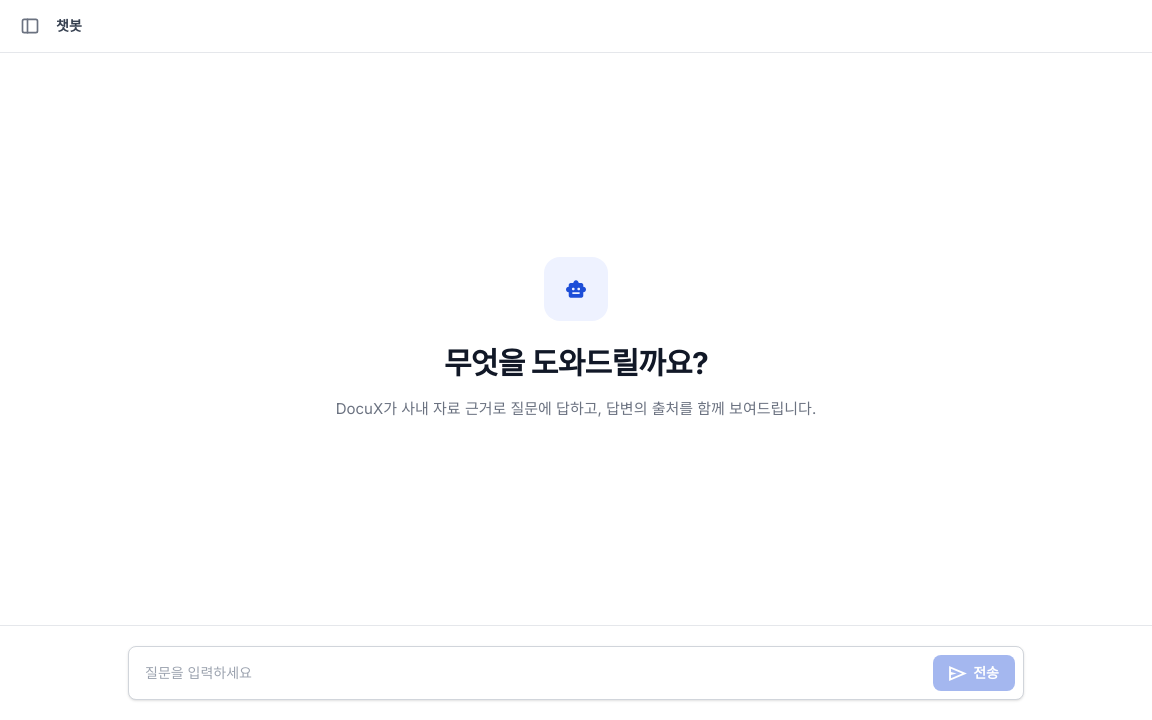
Scenario: ChatPage › 출처 인용 목록을 표시하지 않는다(사용자 요청)
Type "요약해줘" into the field labelled "질문".
click(535, 673); type("요약해줘")  # box [145,663,925,683]
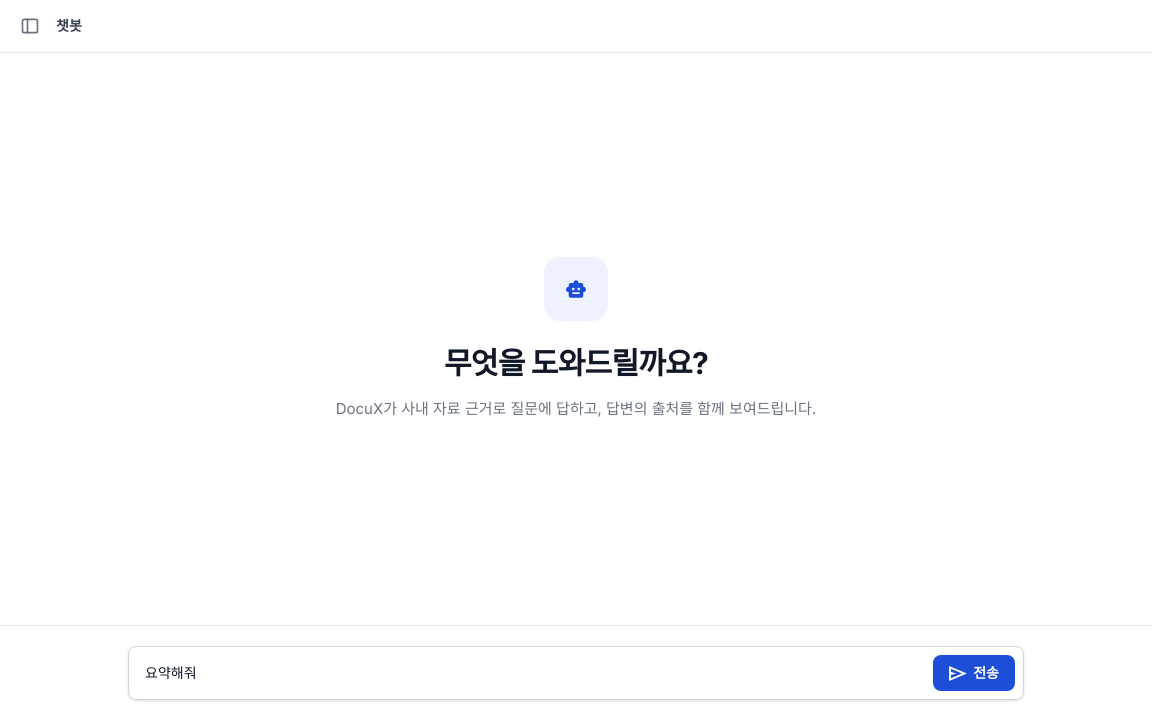
Click the button "전송".
click(974, 673)  # box [933,655,1015,691]
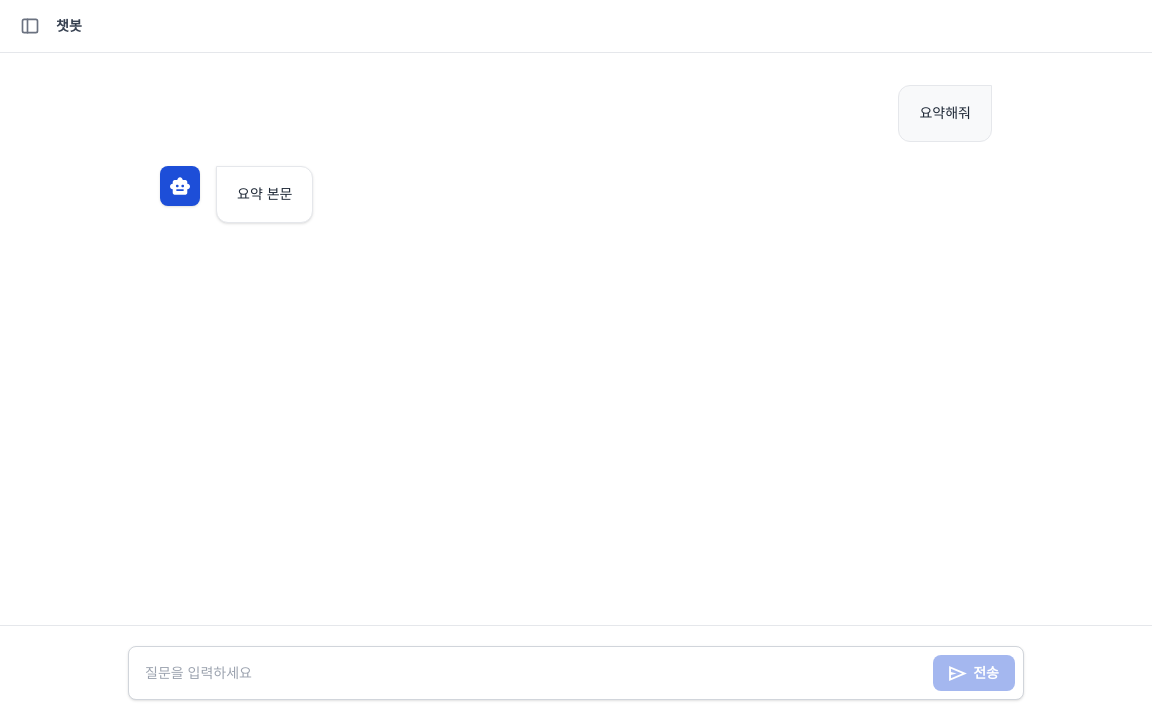
Result: the text "요약 본문" is shown at [237,183,292,206]
Result: the text labelled "출처" is gone
